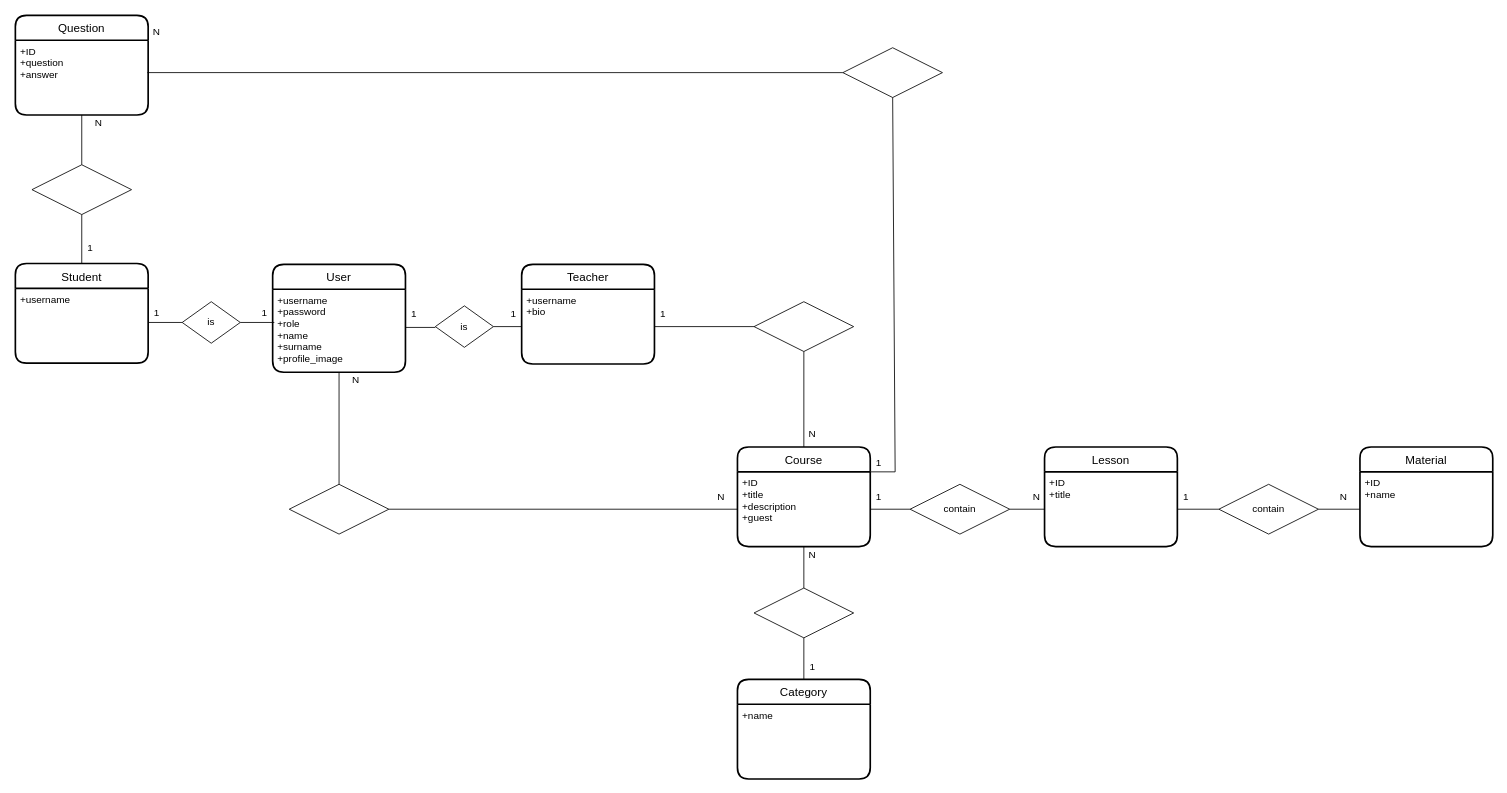
Some shapes in this 1507 by 793 pixel diagram are drawn without their labels. Each missing label, with the centre of its shape:
"about" goes at pixel 892 72.
"ask" goes at pixel 81 189.
"follow" goes at pixel 338 508.
"has" goes at pixel 803 612.
"teach" goes at pixel 803 326.
